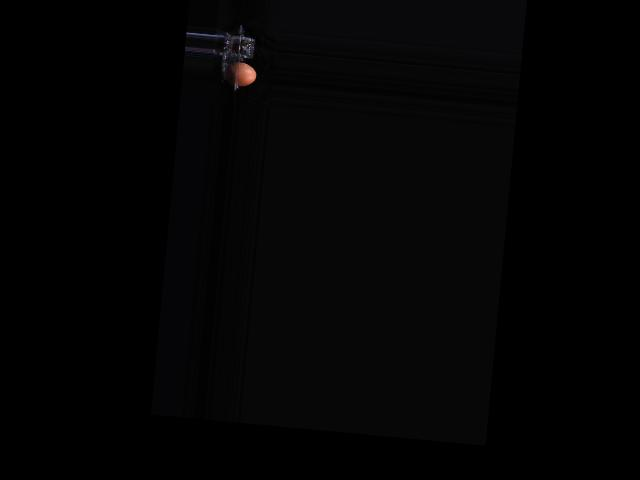egg: (223, 61, 257, 88)
